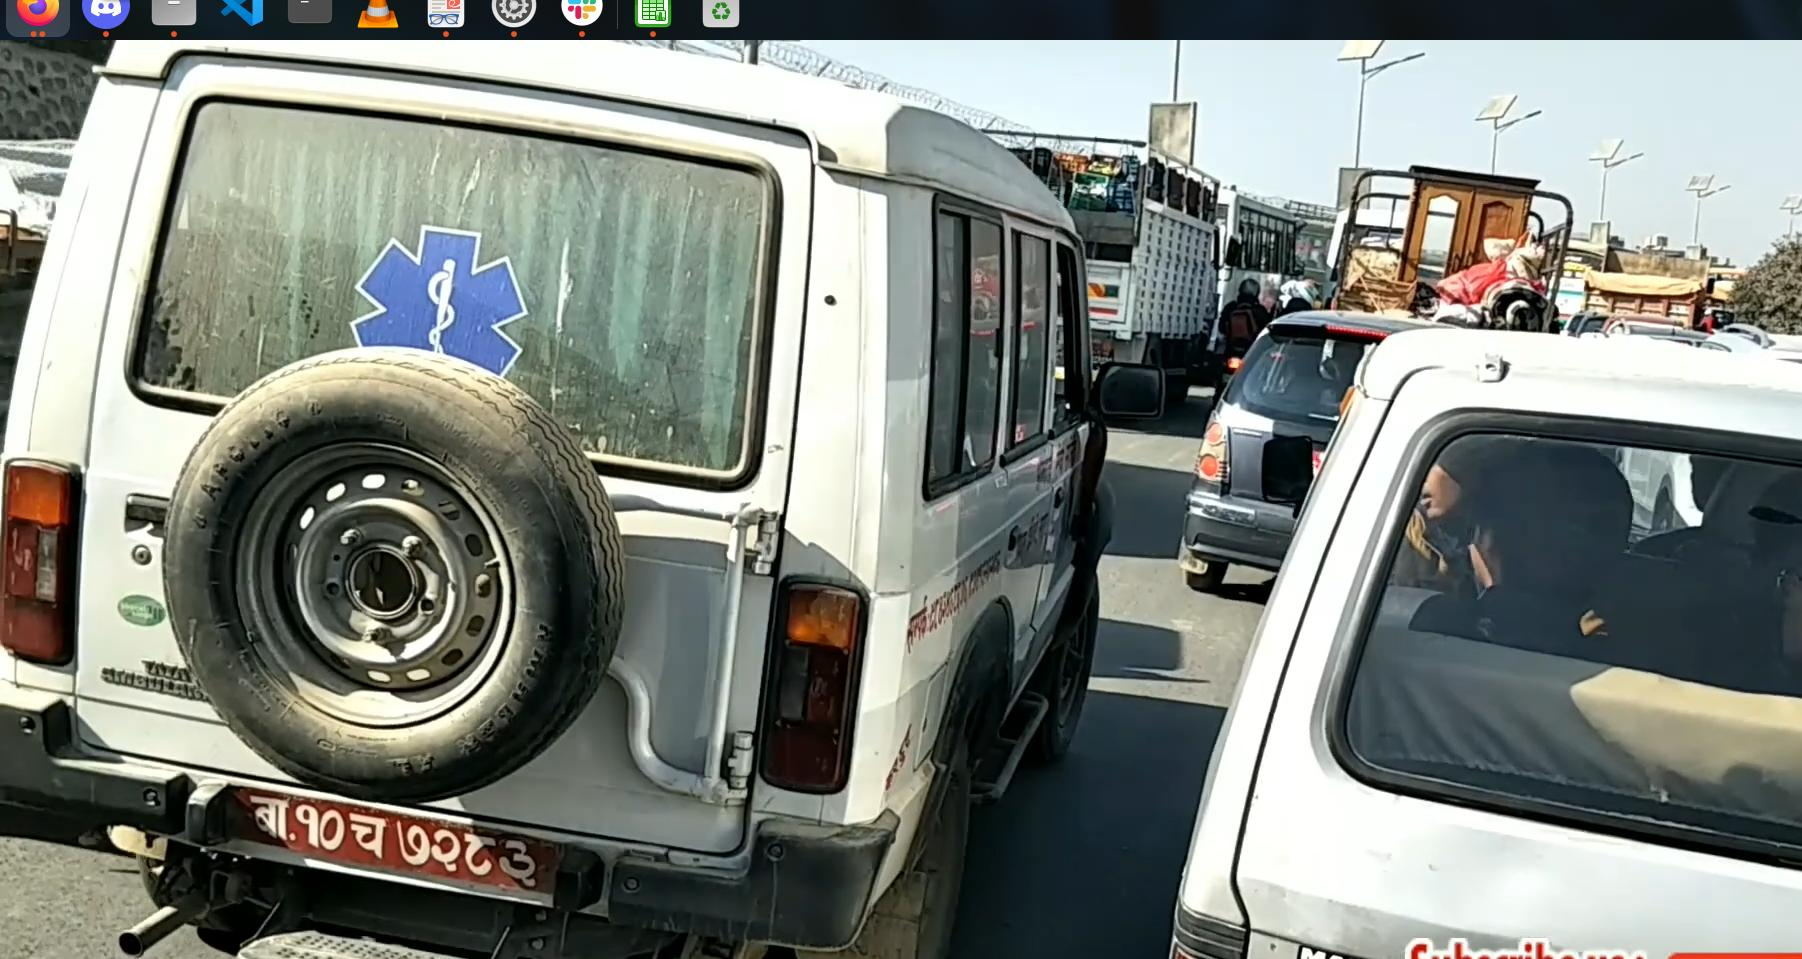ambulance: (0, 38, 1113, 959)
car: (1185, 293, 1396, 593)
mini_truck: (1002, 118, 1225, 426)
